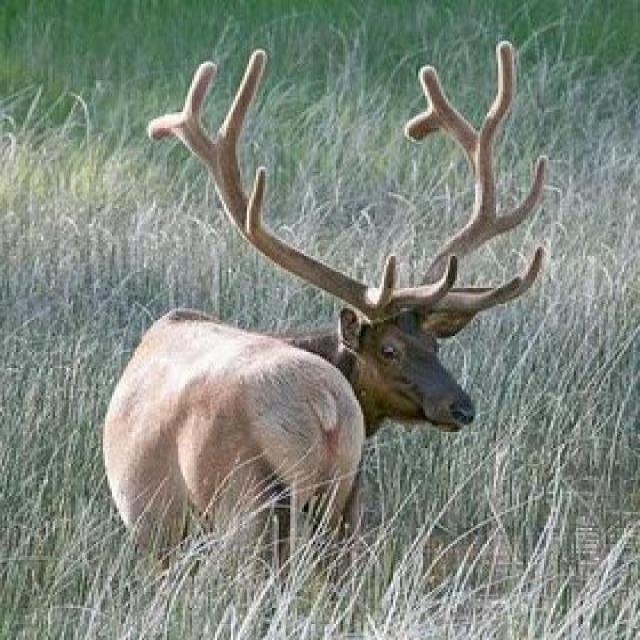deer: (39, 20, 532, 627)
